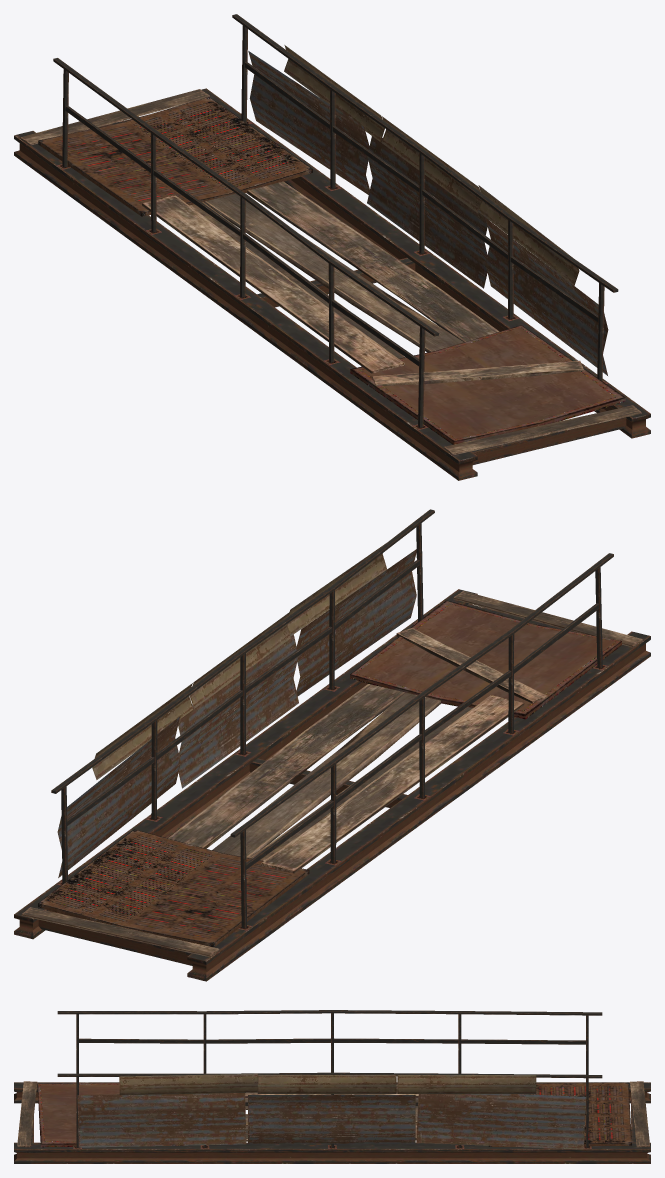
File: spheretank_walkway_b.glb
The picture shows the model from 3 angles, top to bottom: view 1: azimuth 30°, elevation 25°; view 2: azimuth 150°, elevation 25°; view 3: azimuth 270°, elevation 25°; orthographic projection. The views are drawn at different scales.
Parts seen in each view (by area): view 1: spheretank_walkway_b_LOD0; view 2: spheretank_walkway_b_LOD0; view 3: spheretank_walkway_b_LOD0.
Part boxes in pixels (bbox=[...]): spheretank_walkway_b_LOD0: bbox=[14, 14, 650, 480]; spheretank_walkway_b_LOD0: bbox=[14, 509, 650, 981]; spheretank_walkway_b_LOD0: bbox=[14, 1010, 650, 1163].
Bounding box in the file's own units: 2.54 × 1.55 × 10.
6 materials, 6 textured.
